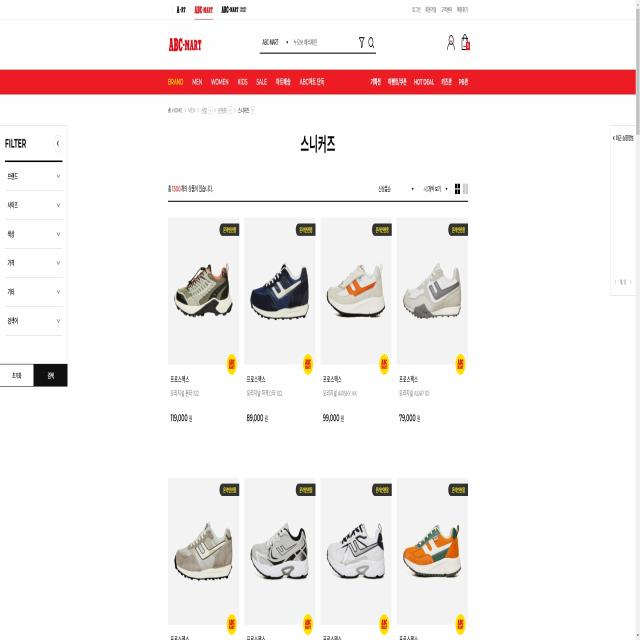search: (254, 31, 378, 56)
tab-bar: (164, 69, 326, 90), (163, 102, 256, 123)
